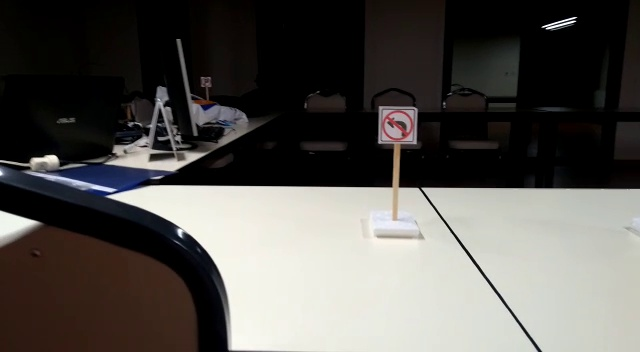sola_donulmez: (376, 105, 418, 144)
